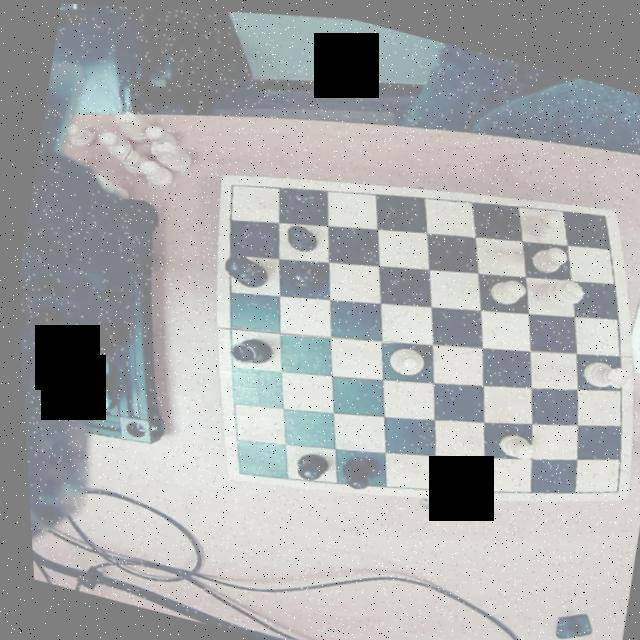chess-table-corners: (220, 452, 254, 482), (214, 170, 246, 200), (582, 195, 617, 222), (597, 466, 626, 494)
